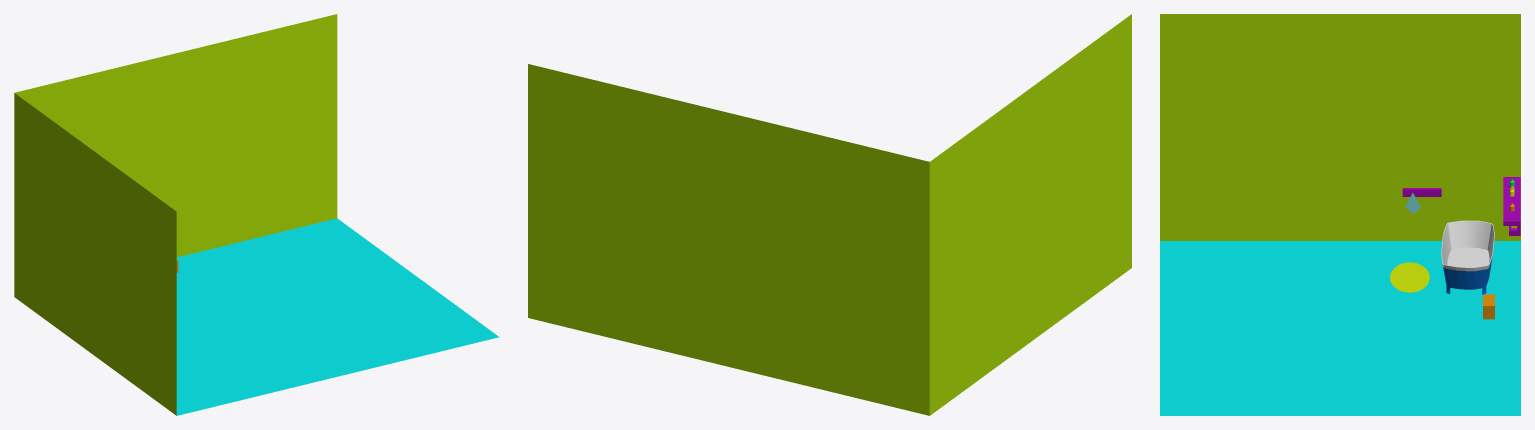
Rendered from BATHROOM.fbx.
3 renders of one model, left to right at view 1: azimuth 30°, elevation 25°; view 2: azimuth 150°, elevation 25°; view 3: azimuth 270°, elevation 25°, orthographic. The views are drawn at different scales.
Parts seen in each view (by area): view 1: pCube1; view 2: pCube1; view 3: pCube1, Bathtub:pCube1, pDisc1, pCube4, pCube5.
Boxes of the visible parts, x1,y1,x2,y2 form: pCube1: (14, 14, 499, 415); pCube1: (528, 14, 1131, 415); pCube1: (1160, 14, 1520, 415); Bathtub:pCube1: (1441, 220, 1494, 294); pDisc1: (1390, 262, 1429, 292); pCube4: (1503, 177, 1520, 235); pCube5: (1402, 188, 1441, 196).
Bounding box in the file's own units: 11.5 × 6.95 × 10.02.
